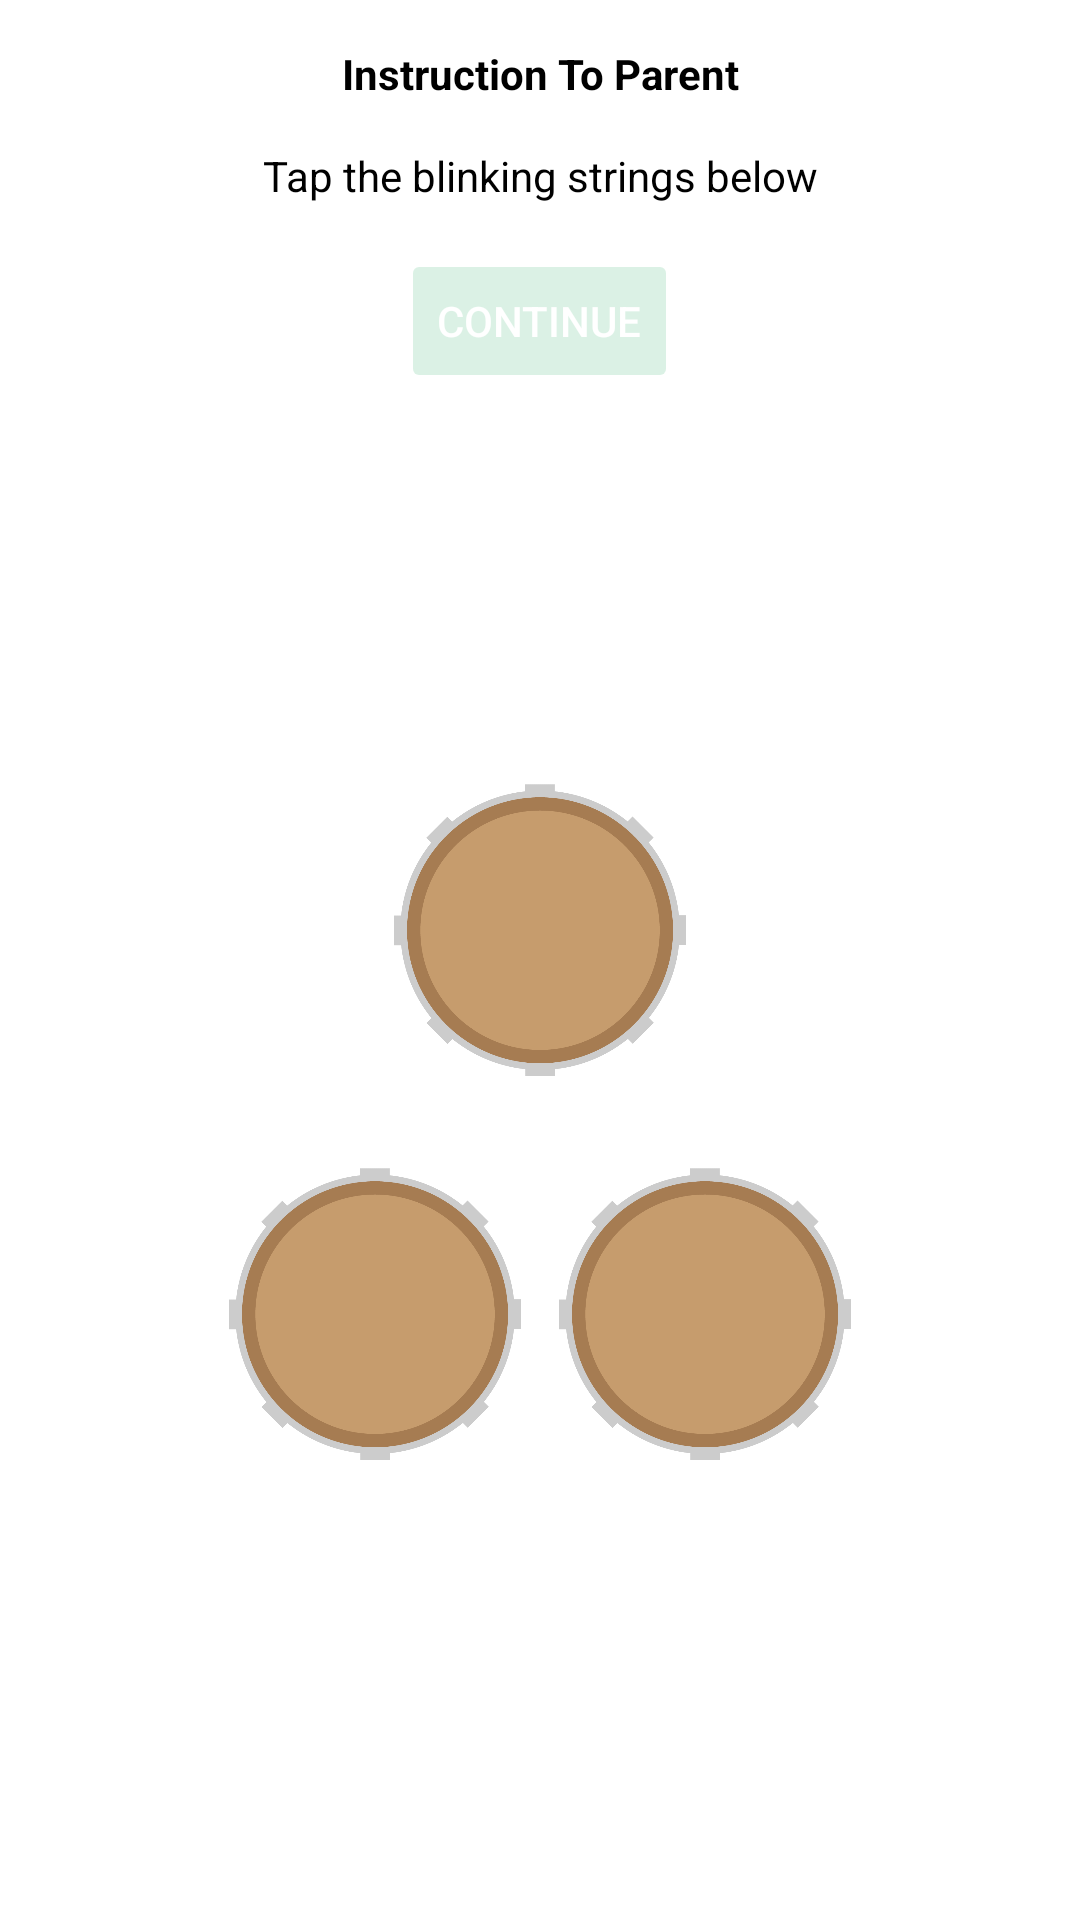

Icon bounding boxes for this 1080 × 1920 phone screenshot, format (x1, y1, x2, y2):
drum: (394, 784, 686, 1076), (229, 1168, 521, 1460), (559, 1168, 851, 1460)
